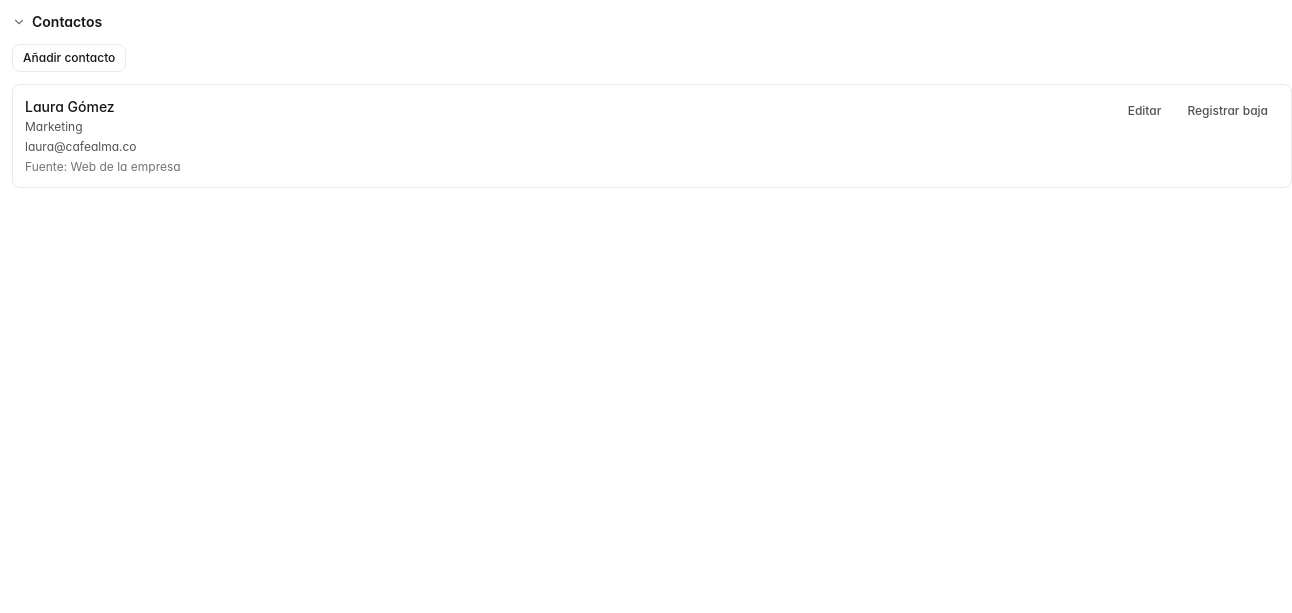
Test case: Contactos › guardar cierra el formulario y lo anuncia
Click the button "Añadir contacto" at (69, 58), box [12, 44, 126, 72]
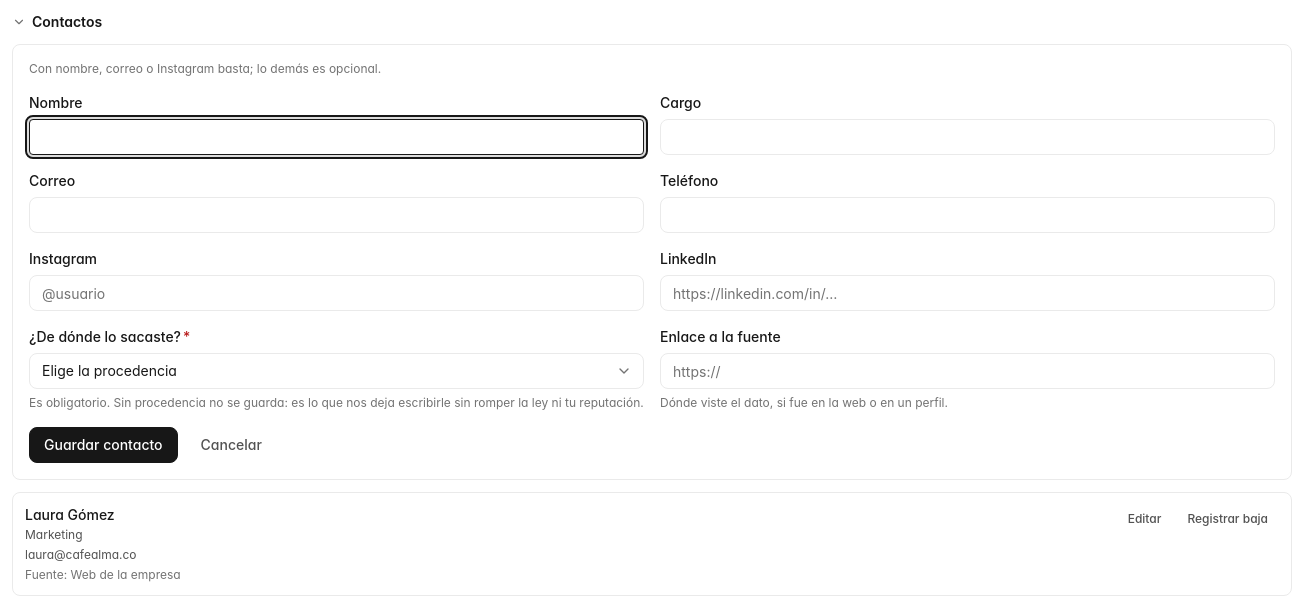
Select "Te escribió" in the dropdown labelled "¿De dónde lo sacaste?*" at (336, 371), box [29, 353, 644, 389]
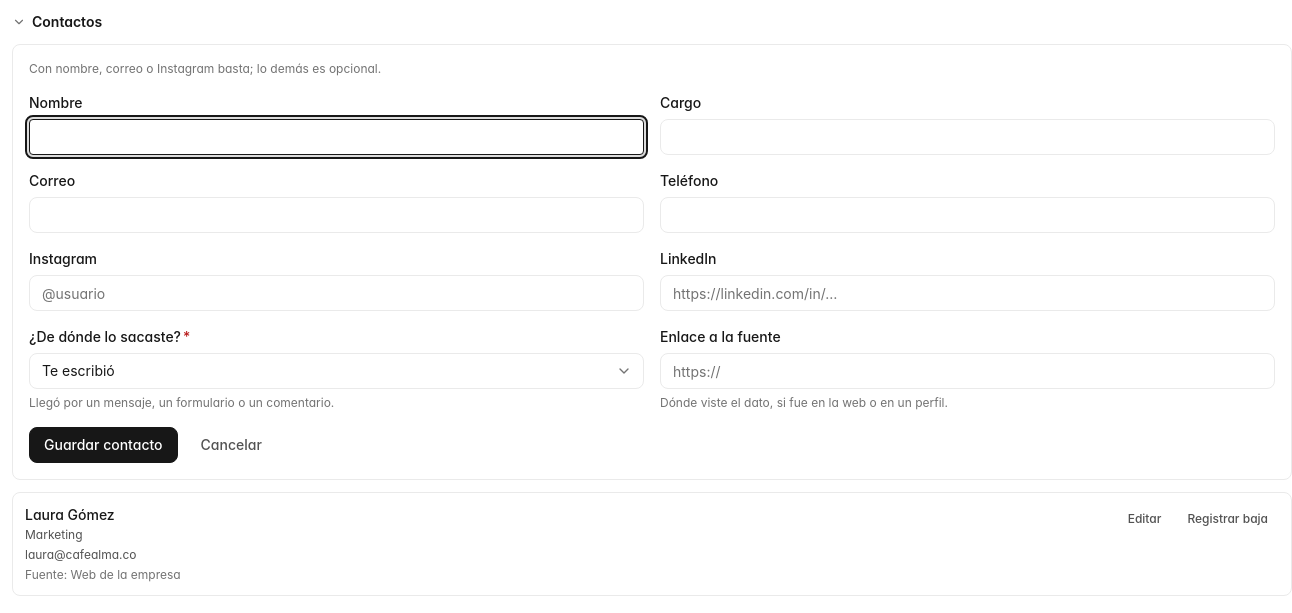
Click the button "Guardar contacto" at (103, 445), box [29, 427, 178, 463]
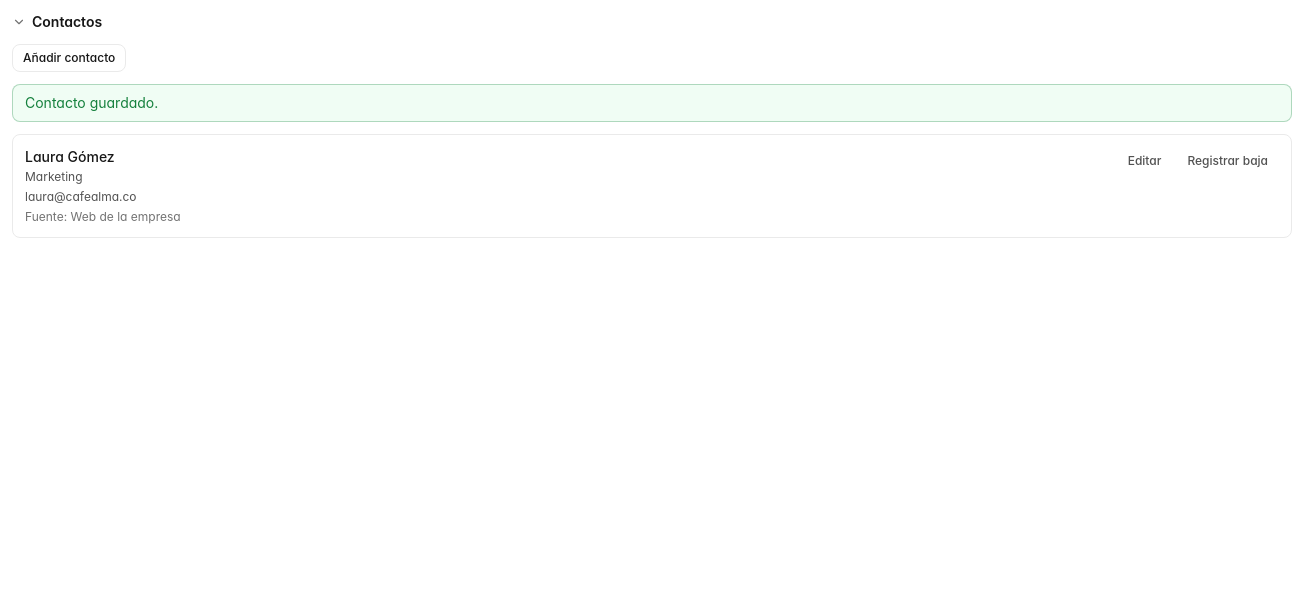
Result: the message reads "Contacto guardado." at [25, 94, 158, 111]
